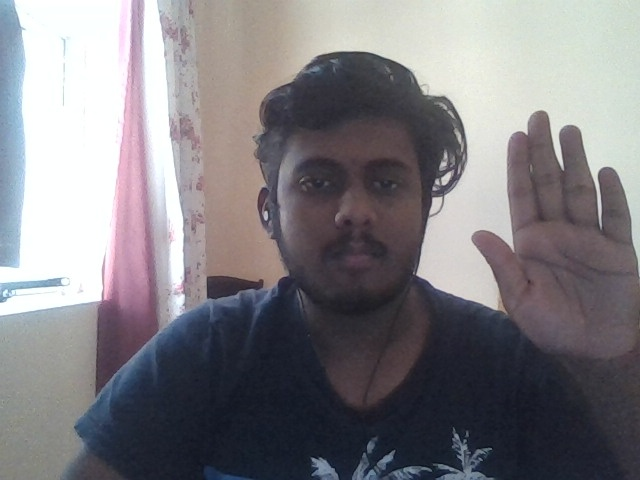thumbsup: (59, 109, 214, 415)
